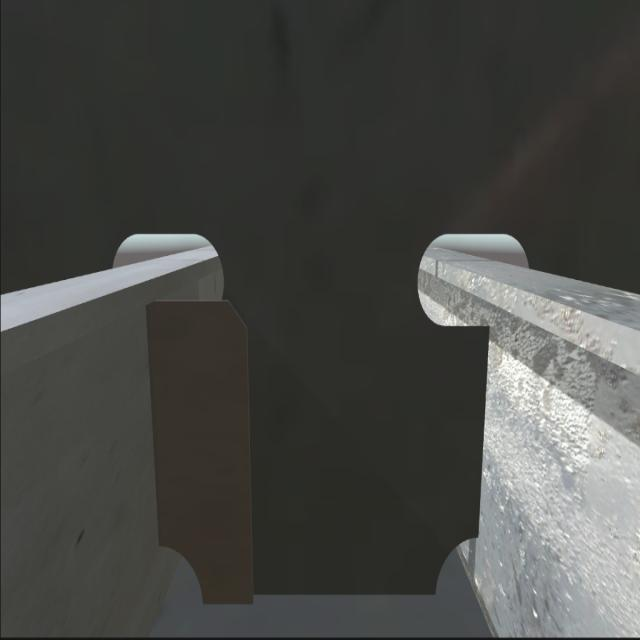fillet_hole: (435, 534, 480, 596), (159, 548, 204, 608)
fillet_yong_jeop_jang: (192, 583, 442, 609)
longi_yong_jeop_jang: (141, 292, 168, 553), (470, 317, 490, 546)
plate_CP03: (144, 298, 260, 612)
